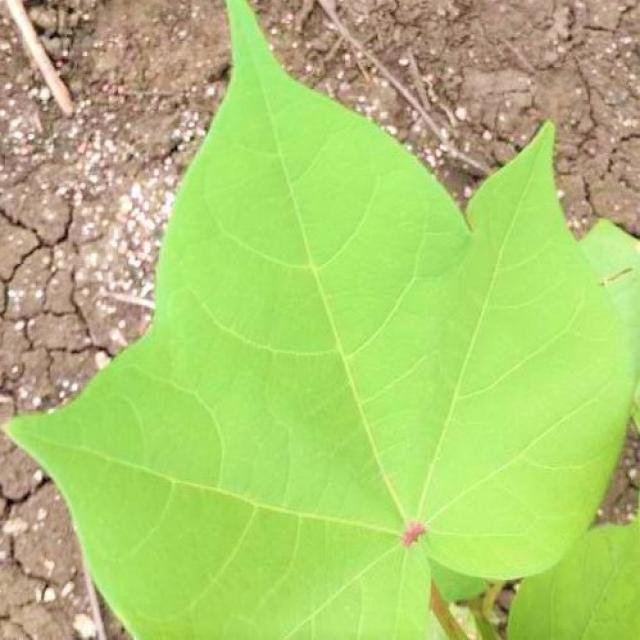Healthy Leaf: (74, 5, 640, 640)
